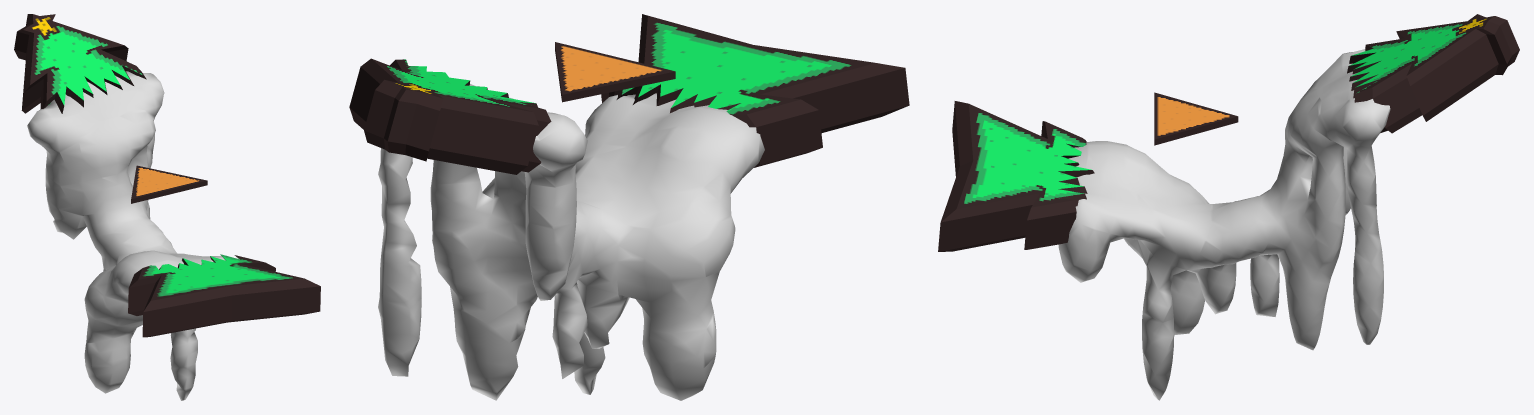
Rendered from chrismaas.fbx.
The picture shows the model from 3 angles, left to right: view 1: azimuth 30°, elevation 25°; view 2: azimuth 150°, elevation 25°; view 3: azimuth 270°, elevation 25°; orthographic projection. The views are drawn at different scales.
Visible parts, largest first — view 1: Mball.018, Plane, Plane.001, Plane.002; view 2: Mball.018, Plane, Plane.001, Plane.002; view 3: Mball.018, Plane, Plane.001, Plane.002.
Boxes of the visible parts, bbox=[...] form: Mball.018: bbox=[27, 71, 225, 400]; Plane: bbox=[128, 254, 320, 337]; Plane.001: bbox=[14, 14, 146, 113]; Plane.002: bbox=[131, 165, 207, 203]; Mball.018: bbox=[378, 84, 764, 400]; Plane: bbox=[601, 14, 909, 167]; Plane.001: bbox=[349, 58, 551, 174]; Plane.002: bbox=[555, 42, 675, 102]; Mball.018: bbox=[1058, 49, 1390, 400]; Plane: bbox=[938, 101, 1094, 251]; Plane.001: bbox=[1347, 14, 1519, 133]; Plane.002: bbox=[1154, 92, 1238, 145].
Bounding box in the file's own units: 416 × 646 × 914.
